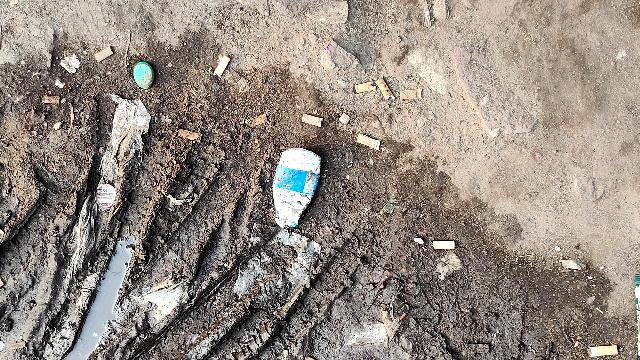hardplastic: (274, 144, 322, 230)
